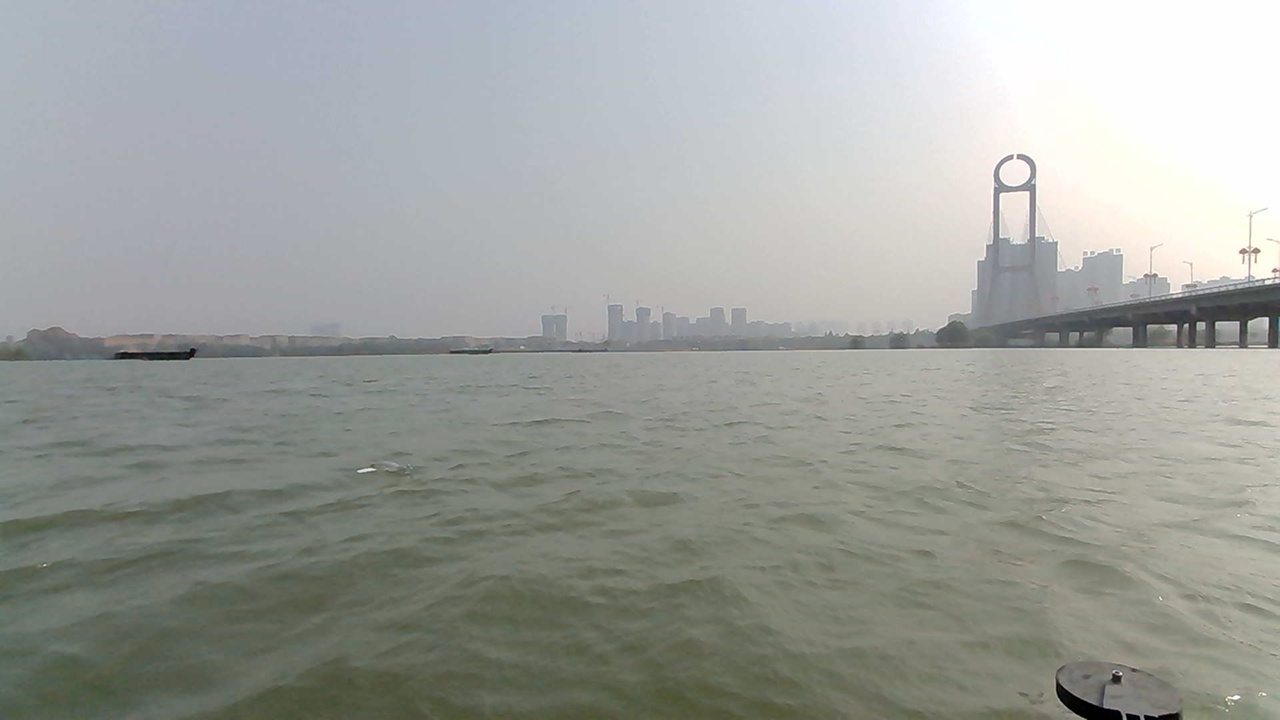bottle: (357, 451, 430, 492)
